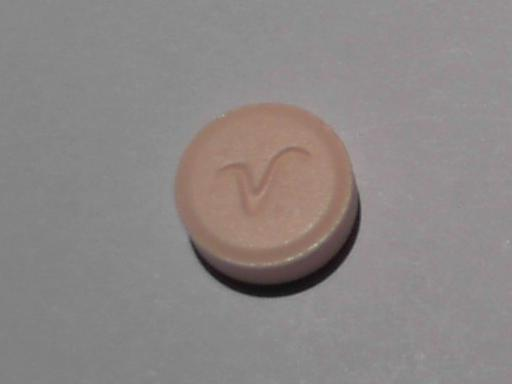Pill: (172, 99, 363, 289)
